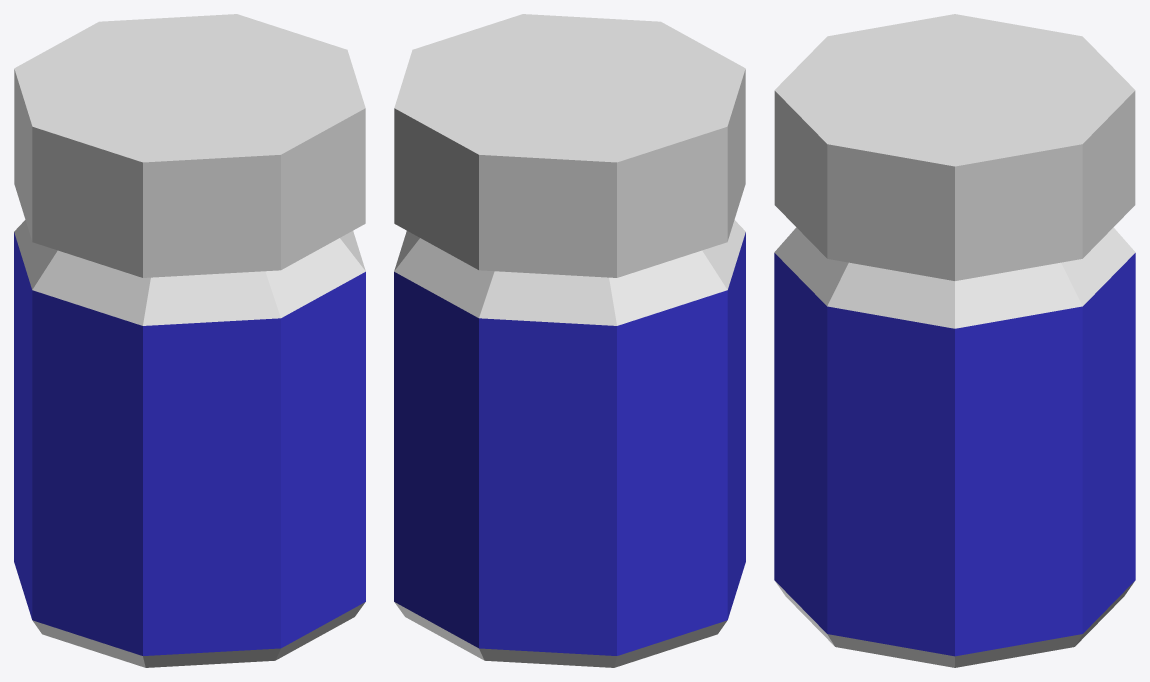
File: pills.fbx
3 renders of one model, left to right at view 1: azimuth 30°, elevation 25°; view 2: azimuth 150°, elevation 25°; view 3: azimuth 270°, elevation 25°, orthographic.
Visible parts, largest first — view 1: Cylinder; view 2: Cylinder; view 3: Cylinder.
Part boxes in pixels (x1=…): Cylinder: x1=14, y1=14, x2=365, y2=667; Cylinder: x1=394, y1=14, x2=745, y2=667; Cylinder: x1=774, y1=14, x2=1135, y2=667.
Size of the model in its own units: 20 by 30.9 by 20.
